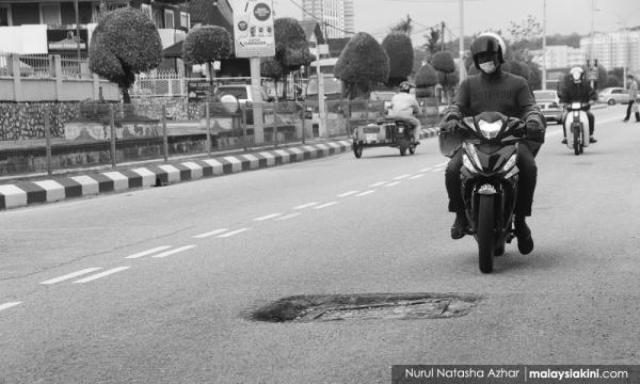Pothole: (244, 292, 480, 324)
